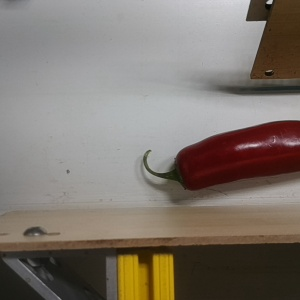Cut Point: (165, 149, 199, 192)
